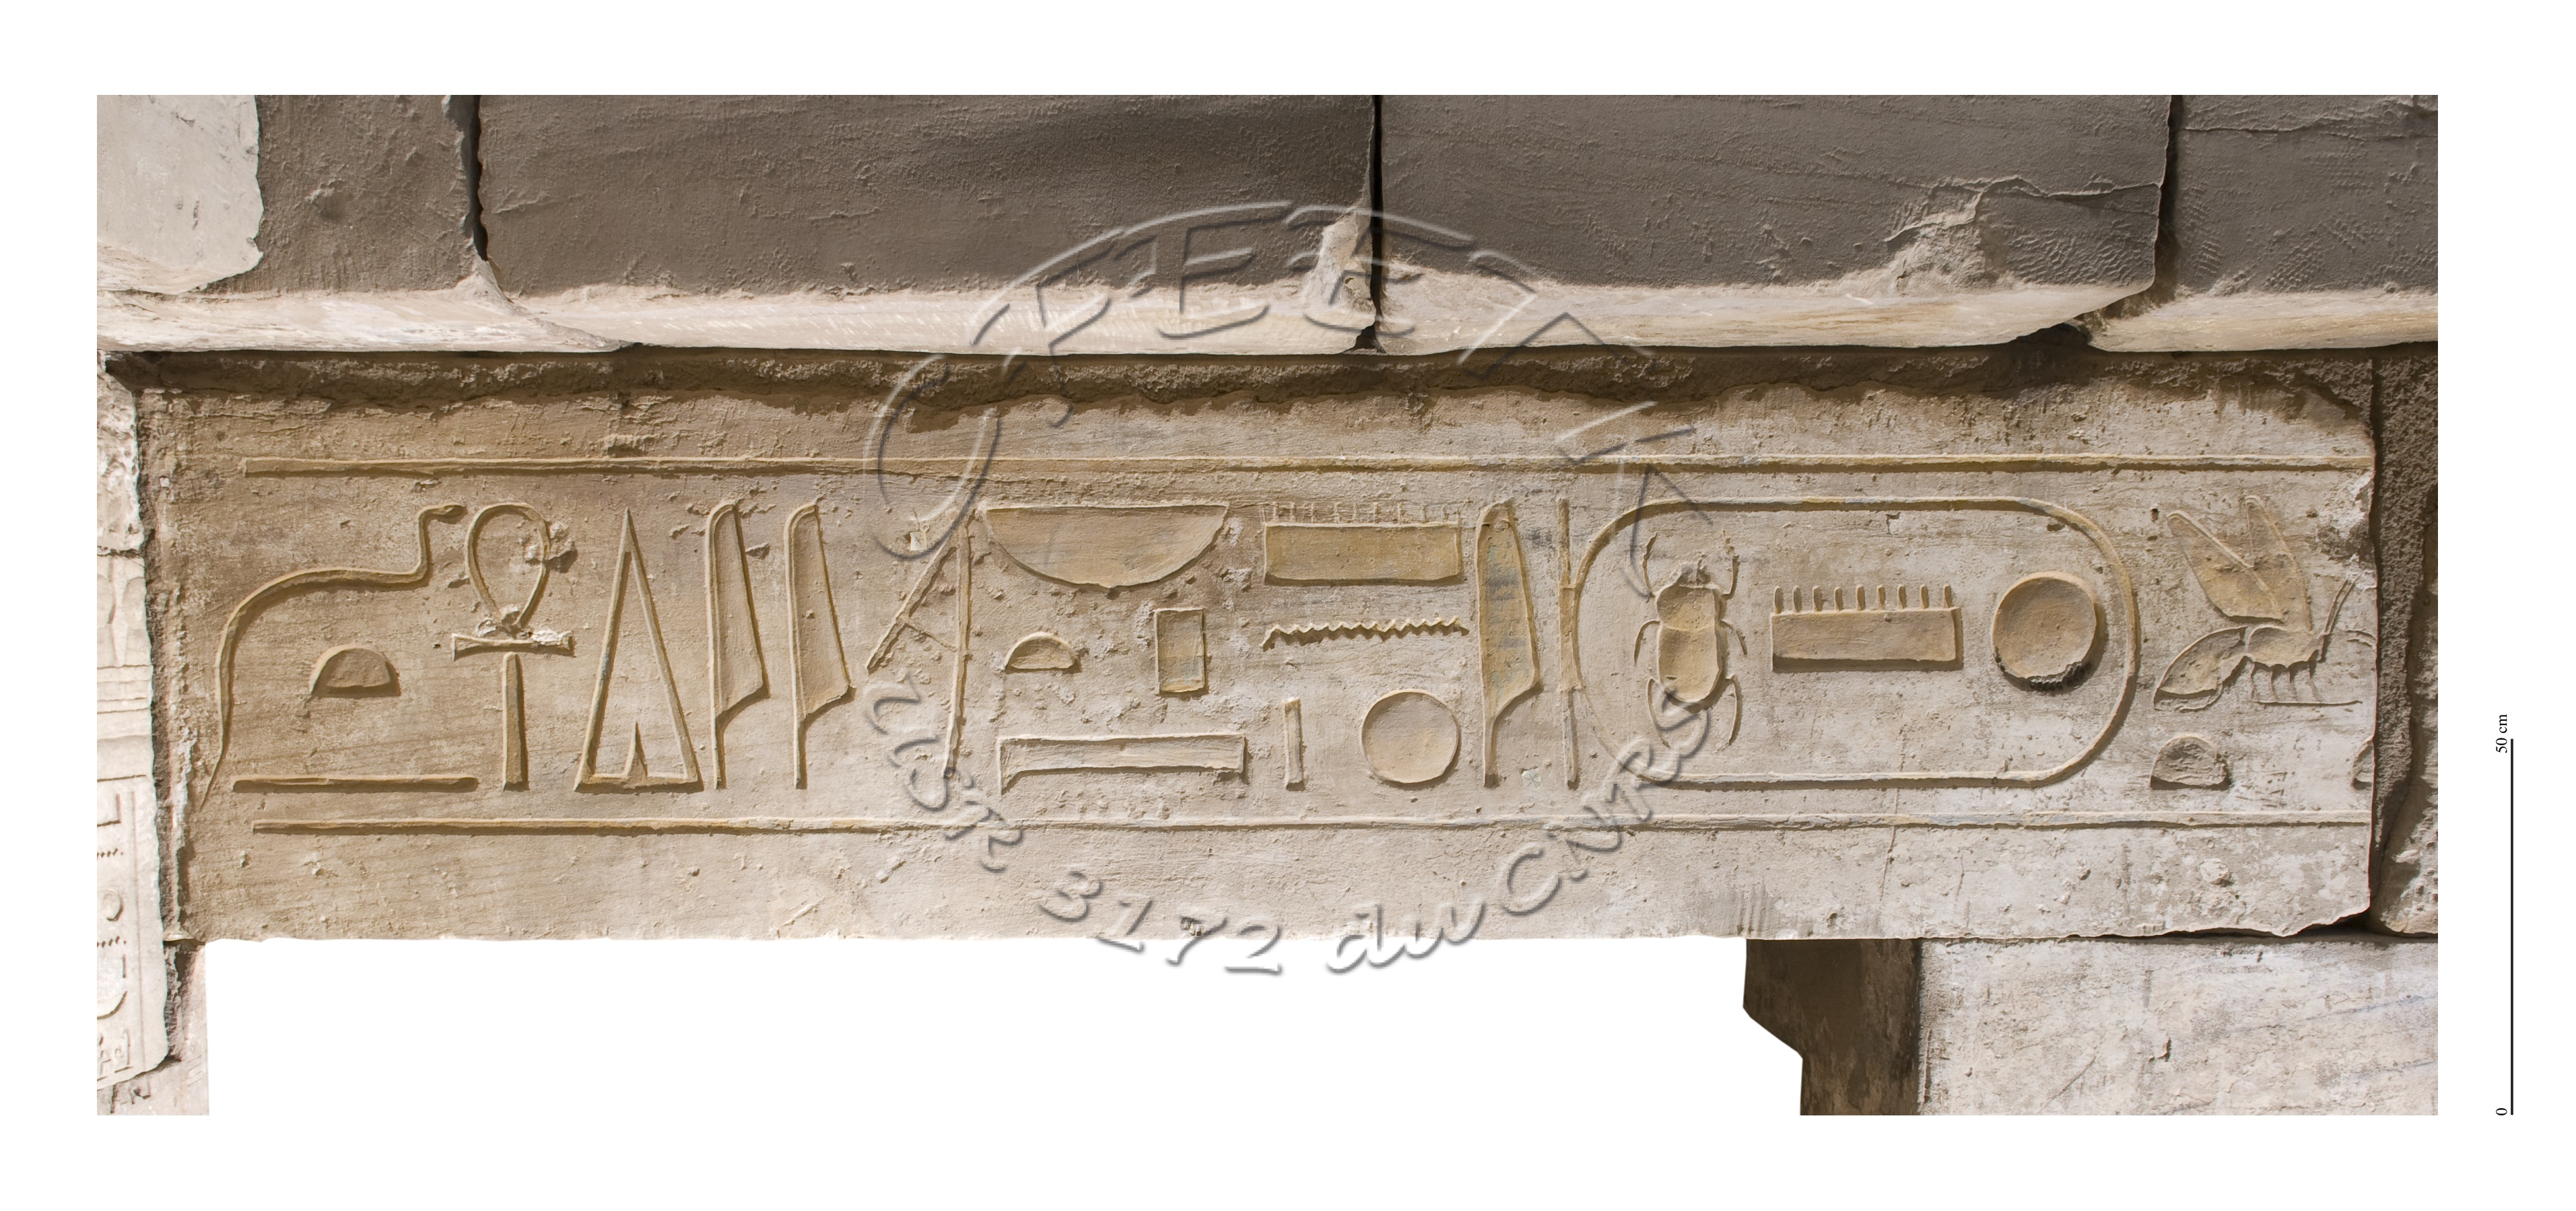I10: (192, 486, 478, 820)
M17: (1451, 488, 1571, 797), (683, 495, 787, 808), (759, 500, 866, 803)
N35: (1242, 610, 1474, 688)
V30: (956, 488, 1247, 611)
X8: (560, 506, 713, 807)
